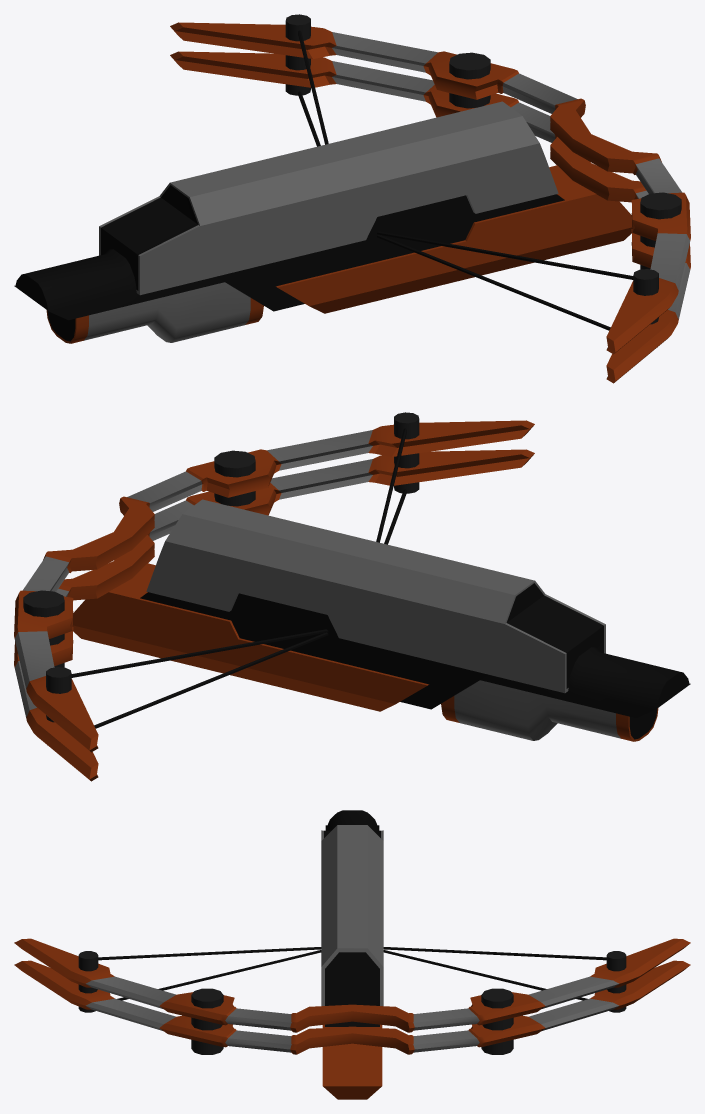
File: Body_Crossbow_2.obj
The picture shows the model from 3 angles, top to bottom: view 1: azimuth 30°, elevation 25°; view 2: azimuth 150°, elevation 25°; view 3: azimuth 270°, elevation 25°; orthographic projection. The views are drawn at different scales.
Parts seen in each view (by area): view 1: Body_Crossbow_2_Cube.030; view 2: Body_Crossbow_2_Cube.030; view 3: Body_Crossbow_2_Cube.030.
Part boxes in pixels (left/top/right/bottom): Body_Crossbow_2_Cube.030: left=14, top=14, right=690, bottom=383; Body_Crossbow_2_Cube.030: left=14, top=412, right=690, bottom=781; Body_Crossbow_2_Cube.030: left=14, top=810, right=690, bottom=1099.
Bounding box in the file's own units: 1.47 × 0.3561 × 1.92.
